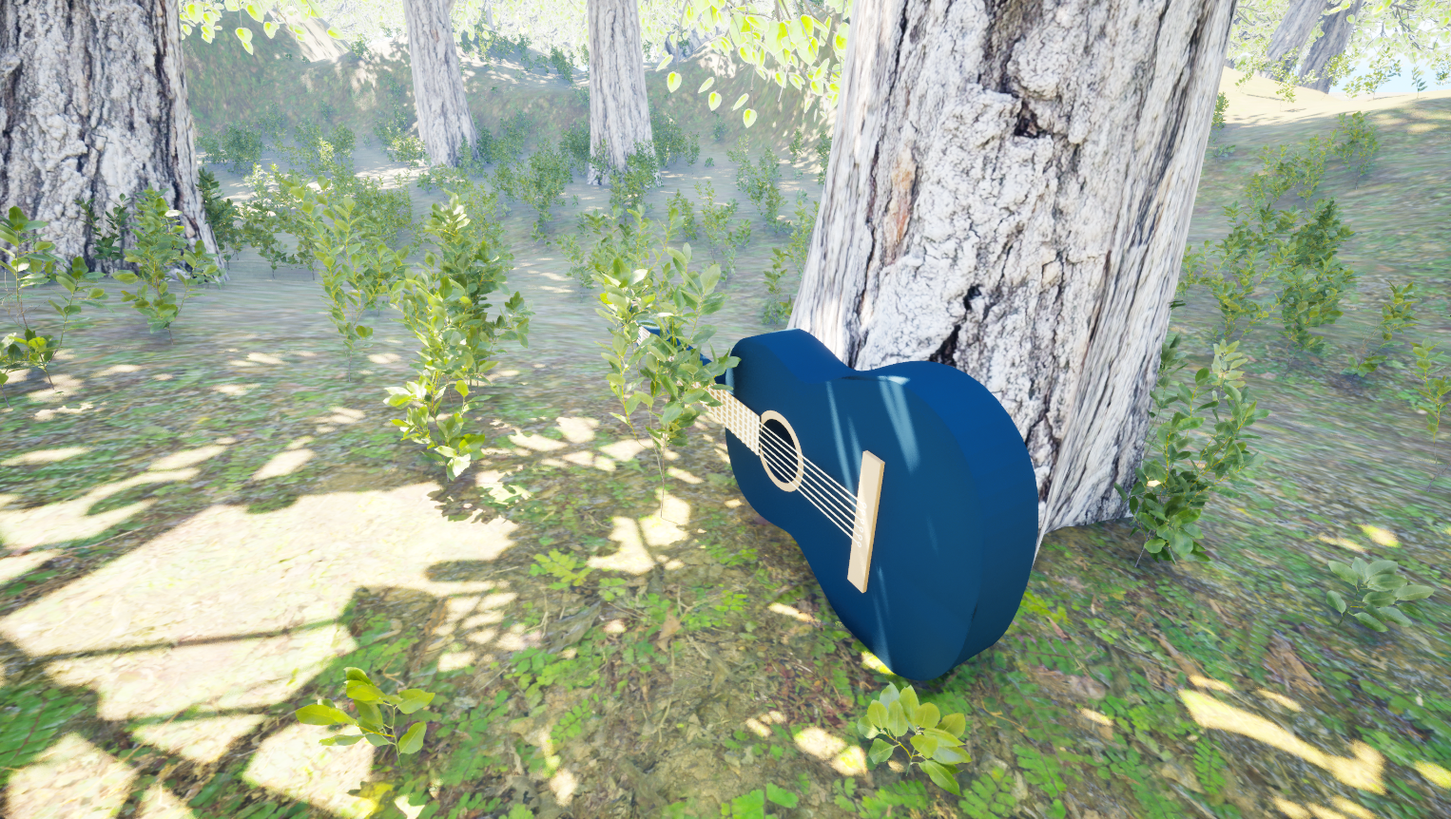Guitar: (416, 226, 1103, 738)
